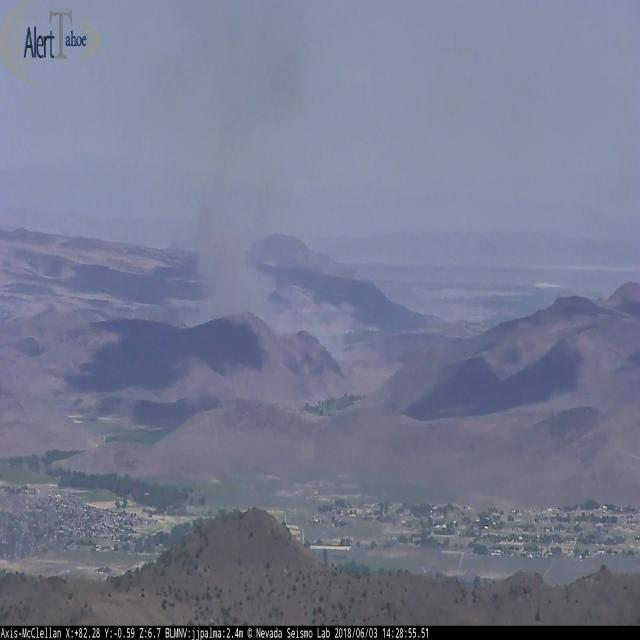smoke: (158, 4, 346, 365)
